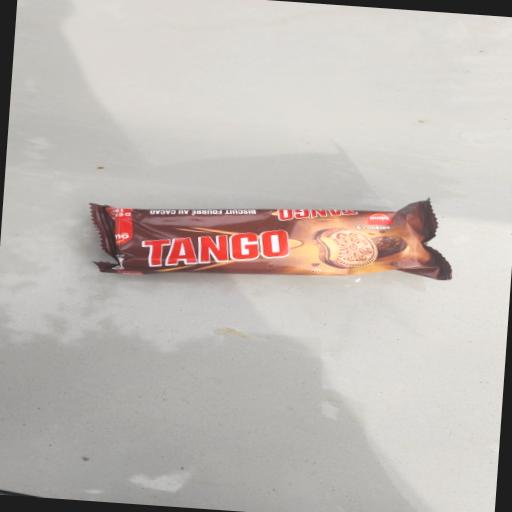tango: (67, 130, 512, 350)
